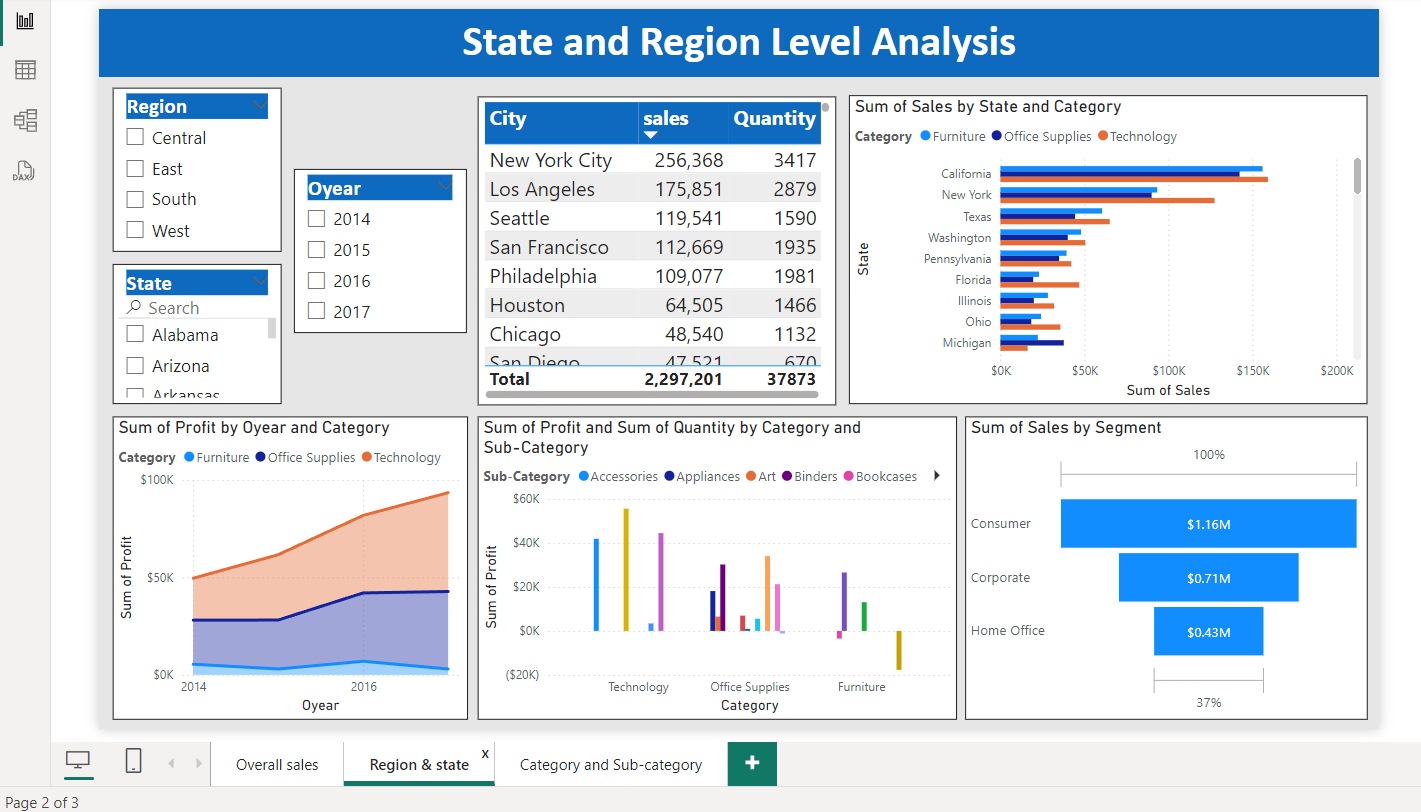

The page's visual inventory and layout, read from the dashboard file:
{"tool":"powerbi","page":{"name":"Region & state","canvas":[1280,720],"ordinal":1},"visuals":[{"type":"textbox","box":[0,0,1280.2,68.3],"z":0},{"type":"slicer","fields":{"Values":["Superstore.State"]},"box":[13.3,254.6,168.9,139.9],"z":1000},{"type":"slicer","fields":{"Values":["Superstore.Region"]},"box":[13.3,78.4,168.9,164.1],"z":2000},{"type":"slicer","fields":{"Values":["Superstore.Oyear"]},"box":[195.4,160.5,172.5,164.1],"z":3000},{"type":"tableEx","fields":{"Values":["Superstore.City","Sum(Superstore.Sales)","Sum(Superstore.Quantity)"]},"box":[378.8,88.1,358.3,308.8],"z":4000},{"type":"clusteredBarChart","fields":{"Series":["Superstore.Category"],"Y":["Sum(Superstore.Sales)"],"Category":["Superstore.State"]},"box":[750.4,85.7,518.8,308.8],"z":5000},{"type":"stackedAreaChart","fields":{"Category":["Superstore.Oyear"],"Y":["Sum(Superstore.Profit)"],"Series":["Superstore.Category"]},"box":[13.2,407.6,354.8,303.3],"z":6000},{"type":"lineClusteredColumnComboChart","fields":{"Series":["Superstore.Sub-Category"],"Category":["Superstore.Category"],"Y":["Sum(Superstore.Profit)"]},"box":[378.8,407.6,479.5,303.3],"z":7000},{"type":"funnel","fields":{"Category":["Superstore.Segment"],"Y":["Sum(Superstore.Sales)"]},"box":[866.7,407.6,402.8,303.3],"z":8000}]}

Visuals, with their boxes on the page's 1280x720 design canvas (x1, y1, x2, y2). These are canvas units, not pixel positions in the 1421x812 screenshot, which may show the page scaled, cropped or inside an application window:
textbox: x1=0, y1=0, x2=1280, y2=68
slicer - Superstore.State: x1=13, y1=255, x2=182, y2=394
slicer - Superstore.Region: x1=13, y1=78, x2=182, y2=242
slicer - Superstore.Oyear: x1=195, y1=160, x2=368, y2=325
tableEx - Superstore.City x Sum(Superstore.Sales): x1=379, y1=88, x2=737, y2=397
clusteredBarChart - Superstore.Category x Sum(Superstore.Sales): x1=750, y1=86, x2=1269, y2=394
stackedAreaChart - Superstore.Oyear x Sum(Superstore.Profit): x1=13, y1=408, x2=368, y2=711
lineClusteredColumnComboChart - Superstore.Sub-Category x Superstore.Category: x1=379, y1=408, x2=858, y2=711
funnel - Superstore.Segment x Sum(Superstore.Sales): x1=867, y1=408, x2=1270, y2=711
